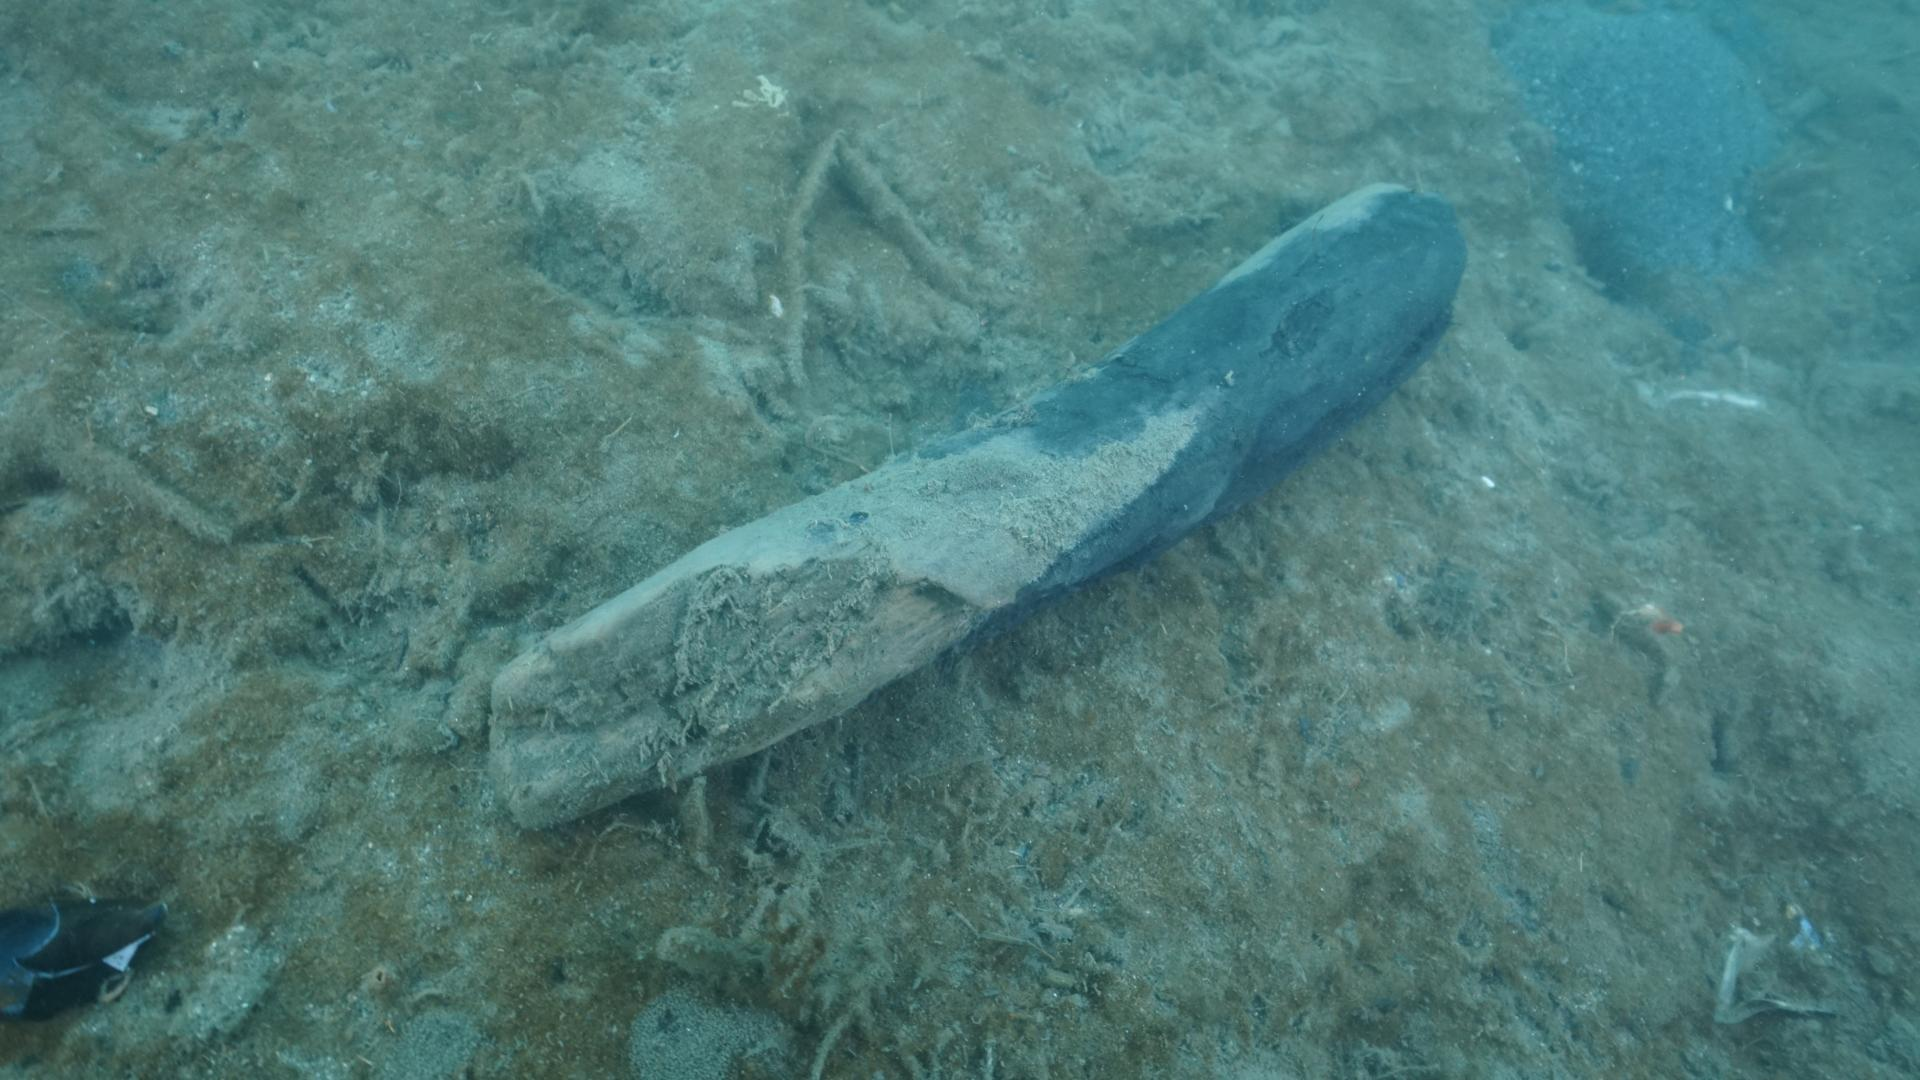wood: (487, 181, 1462, 829)
